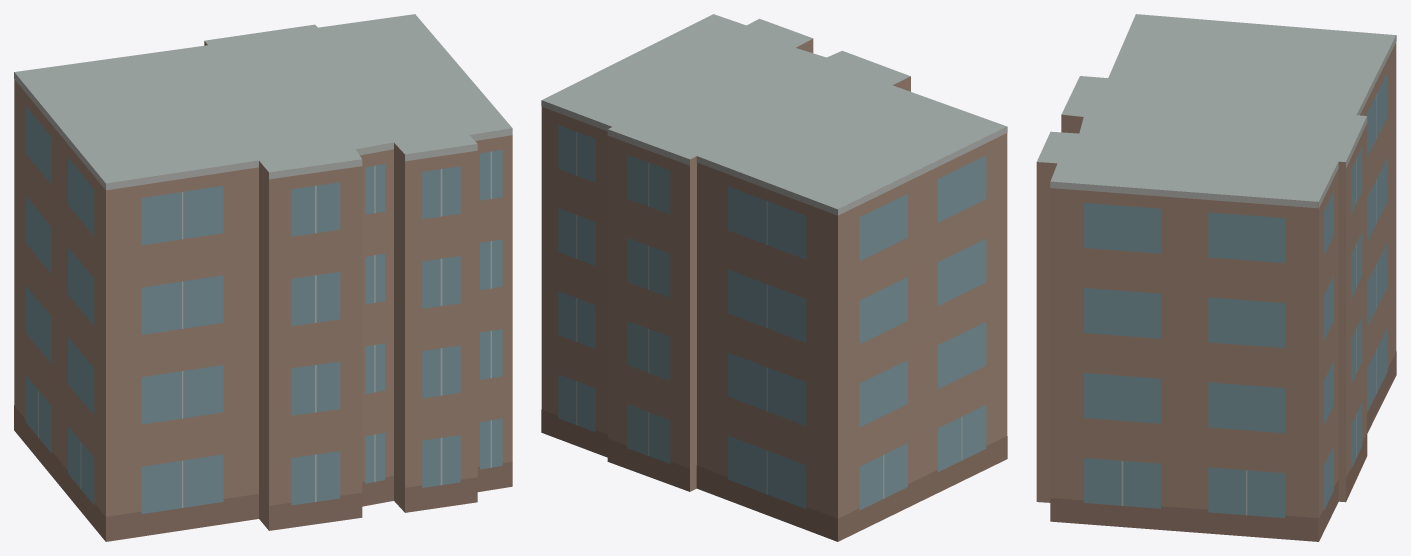
The model's file is survey-upis-32932346.glb.
3 renders of one model, left to right at view 1: azimuth 30°, elevation 25°; view 2: azimuth 150°, elevation 25°; view 3: azimuth 270°, elevation 25°, orthographic. The views are drawn at different scales.
Visible parts, largest first — view 1: survey-upis-32932346.tmp; view 2: survey-upis-32932346.tmp; view 3: survey-upis-32932346.tmp.
Boxes of the visible parts, x1,y1,x2,y2 form: survey-upis-32932346.tmp: (14,14,512,541); survey-upis-32932346.tmp: (541,14,1007,541); survey-upis-32932346.tmp: (1036,14,1396,541).
Bounding box in the file's own units: 15.18 × 12.8 × 12.28.
